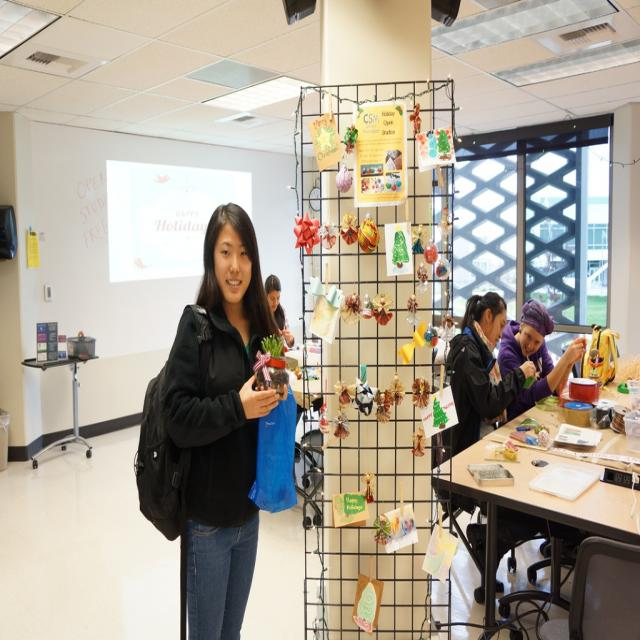chair: (537, 535, 640, 637)
desk: (19, 338, 104, 476)
person: (147, 205, 292, 631), (442, 291, 580, 619), (494, 298, 587, 424), (265, 274, 293, 347)
tv: (0, 205, 18, 260)
